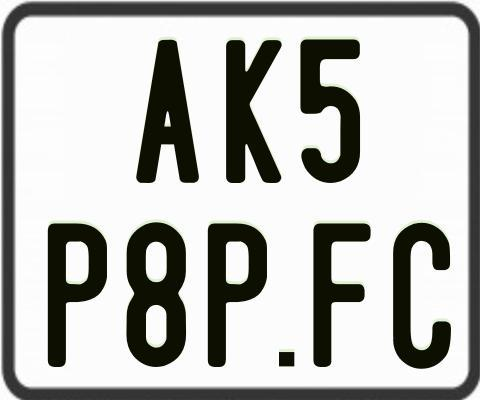5: (300, 39, 366, 183)
8: (124, 221, 185, 368)
A: (136, 38, 201, 185)
C: (393, 220, 452, 371)
F: (310, 222, 372, 370)
K: (224, 38, 286, 187)
P: (206, 220, 270, 366), (47, 221, 106, 366)
